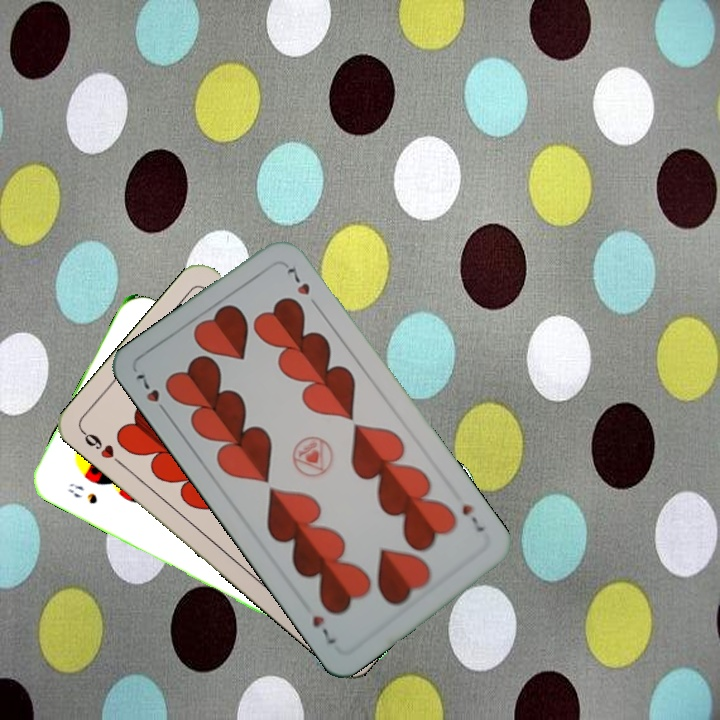H7: (131, 369, 172, 419), (457, 500, 487, 536)
H9: (78, 427, 127, 469)
S8: (63, 478, 100, 507)
